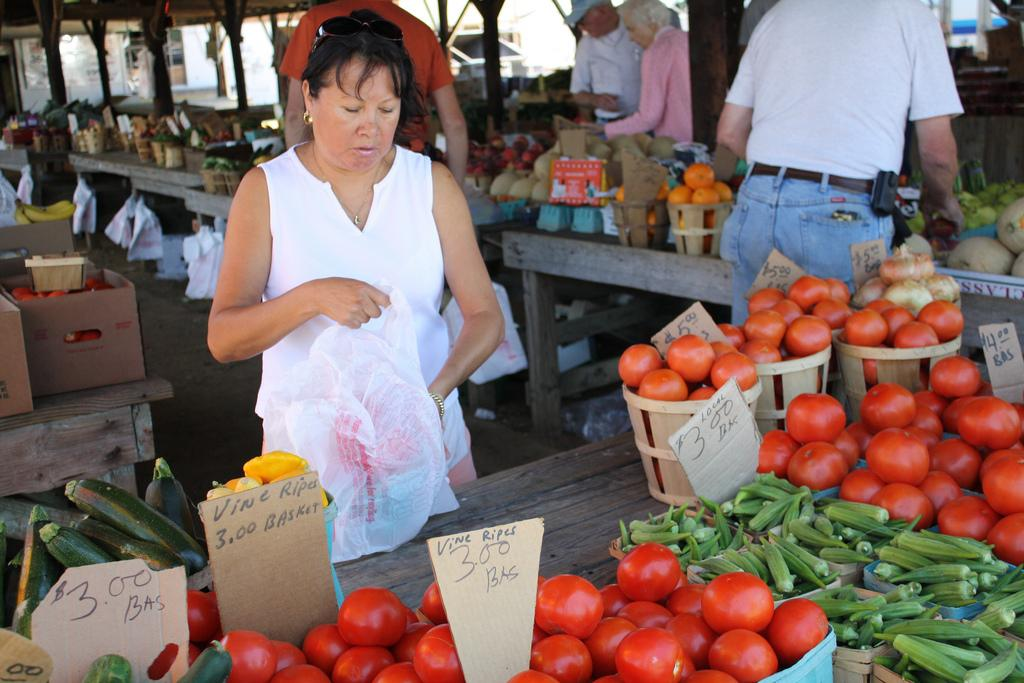Tomato: (615, 269, 1022, 558), (218, 543, 828, 682), (327, 589, 414, 661)
